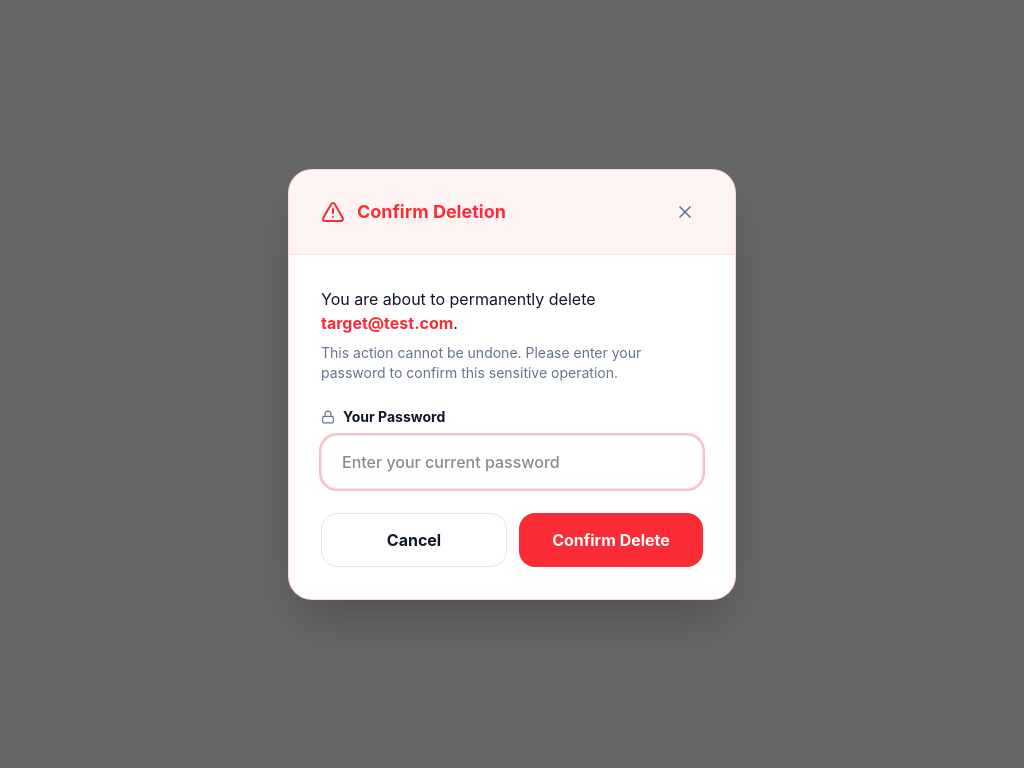
Scenario: DeleteUserConfirmModal › displays error if password verification API throws error
Type "error-password" into the password field with placeholder "Enter your current password" at (512, 462), box [321,434,703,488]
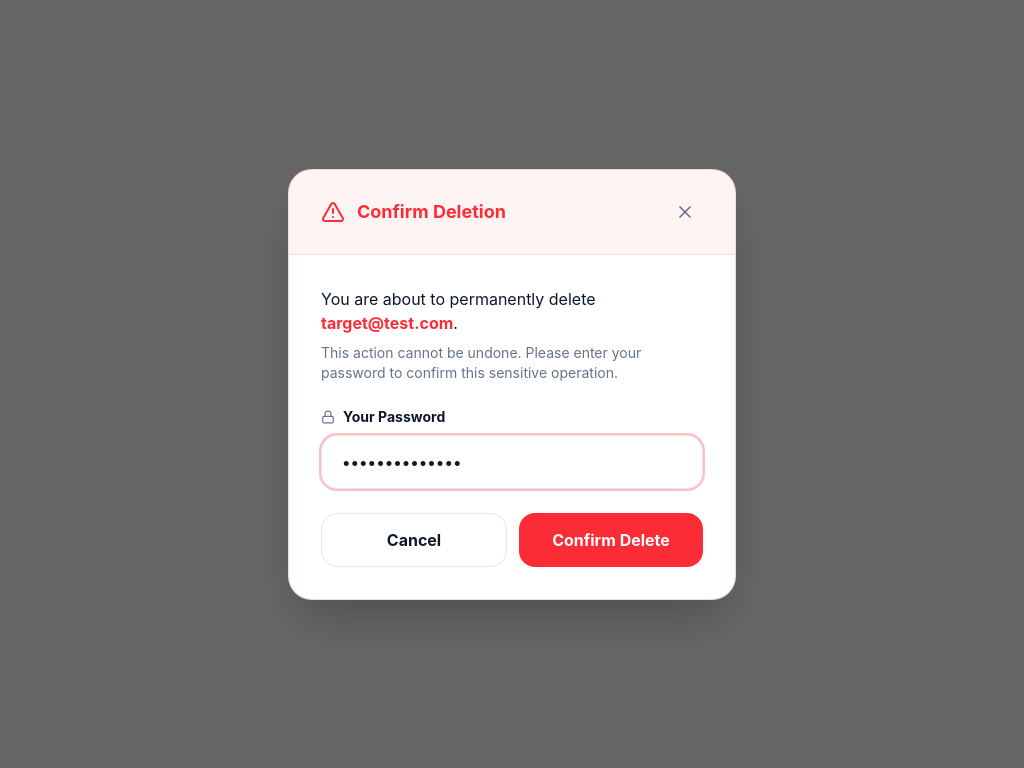
Submit the form from the button "Confirm Delete", box [519,512,703,566]
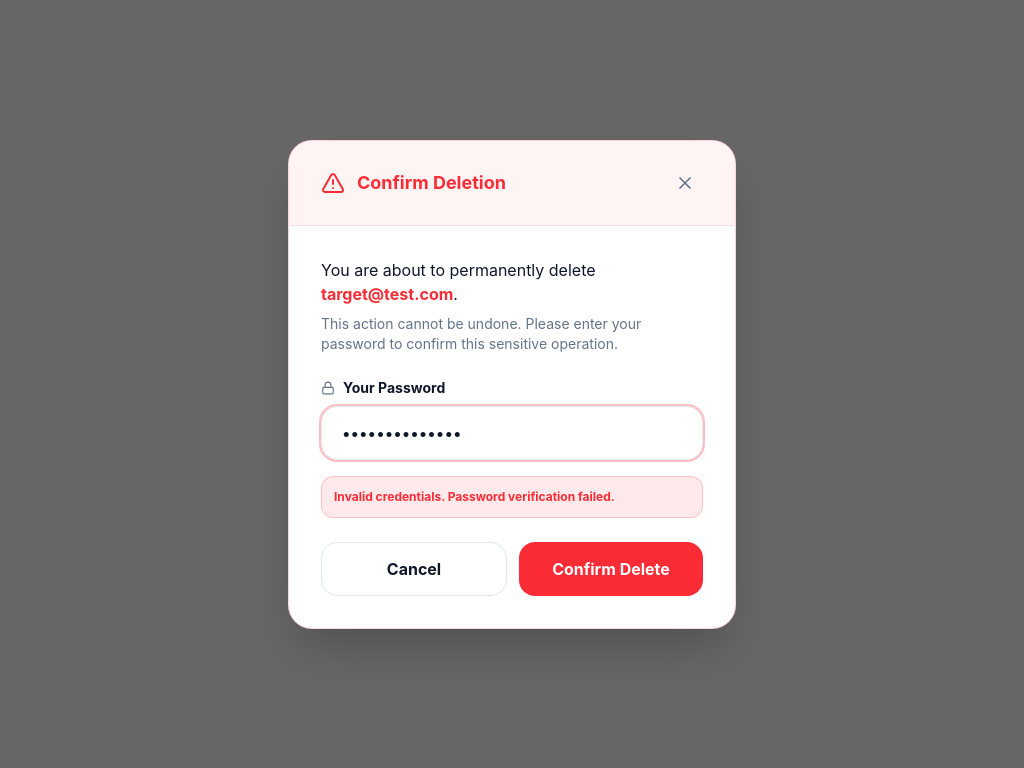
expect the text "Invalid credentials. Password verification failed." is shown: met, box [321,476,703,518]
